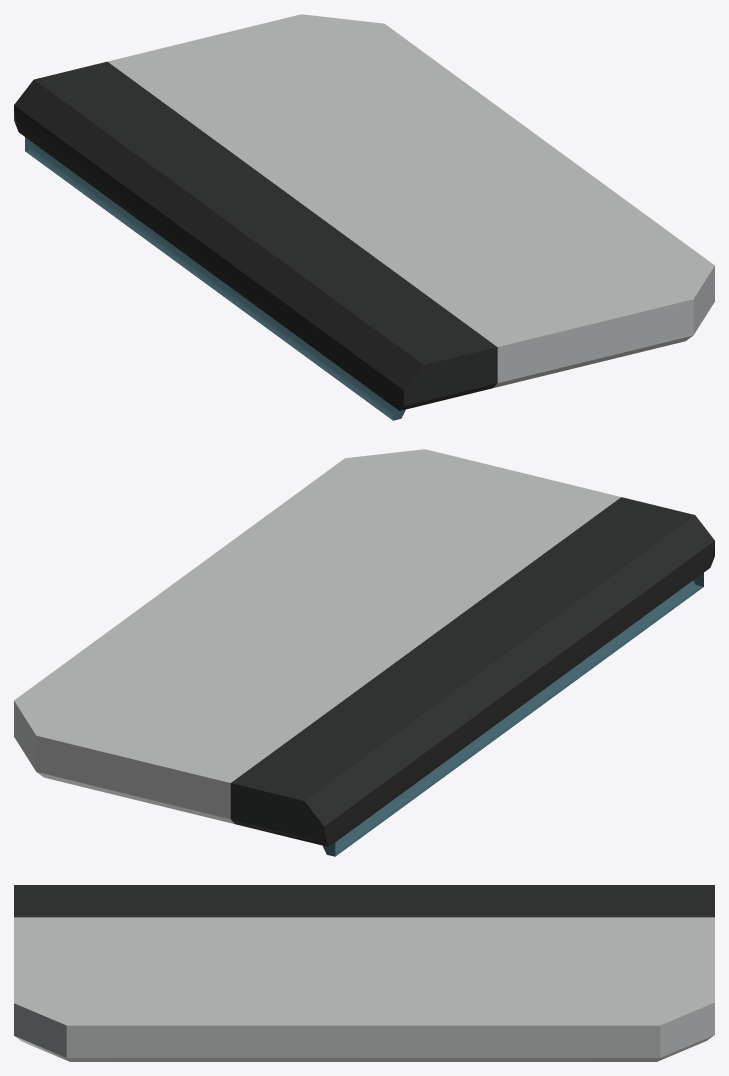
The model's file is Laptop_4_001.fbx.
3 renders of one model, top to bottom at view 1: azimuth 30°, elevation 25°; view 2: azimuth 150°, elevation 25°; view 3: azimuth 270°, elevation 25°, orthographic. The views are drawn at different scales.
Parts seen in each view (by area): view 1: Laptop_4_001; view 2: Laptop_4_001; view 3: Laptop_4_001.
Boxes of the visible parts, <box> form: Laptop_4_001: <box>14,14,714,420</box>; Laptop_4_001: <box>14,449,714,856</box>; Laptop_4_001: <box>14,885,714,1061</box>.
Bounding box in the file's own units: 16.77 × 33.31 × 2.77.
